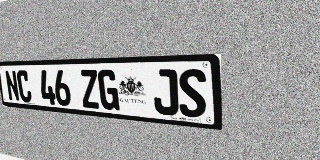4: (38, 70, 56, 105)
6: (53, 70, 72, 106)
C: (16, 70, 32, 103)
G: (97, 70, 120, 111)
J: (152, 69, 179, 116)
N: (4, 70, 20, 102)
S: (178, 69, 207, 119)
Z: (79, 70, 100, 109)
